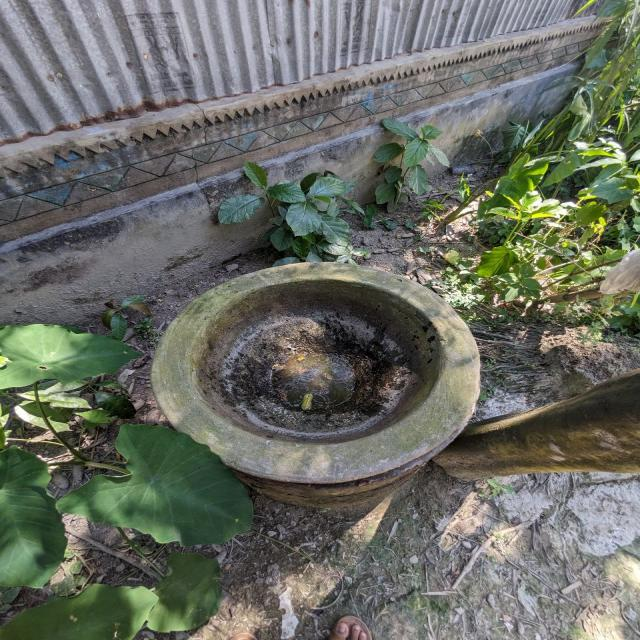Breeding Place: (0, 69, 640, 535), (136, 252, 499, 499)
